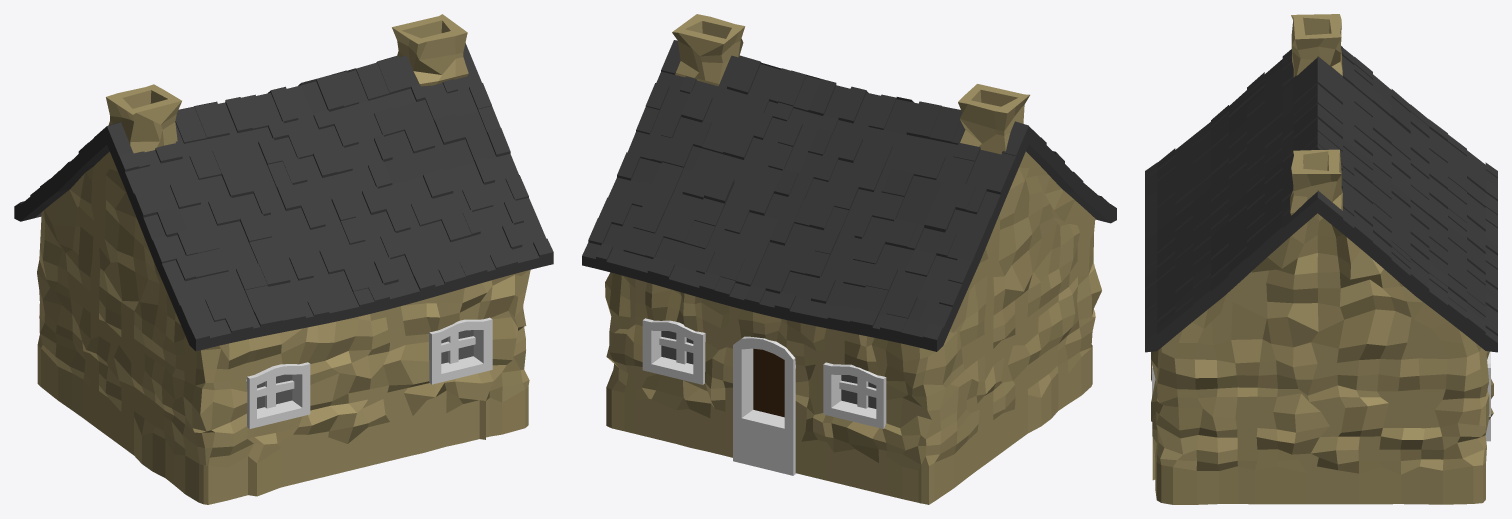
File: KeeperHouse.fbx
3 views of the same model, side by side, from view 1: azimuth 30°, elevation 25°; view 2: azimuth 150°, elevation 25°; view 3: azimuth 270°, elevation 25° (orthographic). The views are drawn at different scales.
Parts seen in each view (by area): view 1: KeeperHouse_Roof, KeeperHouse_Walls, KeeperHouse_Chimneys, KeeperHouse_Windows; view 2: KeeperHouse_Roof, KeeperHouse_Walls, KeeperHouse_Door, KeeperHouse_Chimneys, KeeperHouse_Windows; view 3: KeeperHouse_Walls, KeeperHouse_Roof, KeeperHouse_Chimneys.
Part boxes in pixels (bbox=[...]): KeeperHouse_Roof: bbox=[14, 43, 553, 351]; KeeperHouse_Walls: bbox=[37, 151, 530, 504]; KeeperHouse_Chimneys: bbox=[106, 14, 468, 153]; KeeperHouse_Windows: bbox=[246, 317, 492, 428]; KeeperHouse_Roof: bbox=[582, 40, 1116, 351]; KeeperHouse_Walls: bbox=[605, 151, 1101, 504]; KeeperHouse_Door: bbox=[733, 336, 795, 475]; KeeperHouse_Chimneys: bbox=[672, 14, 1029, 154]; KeeperHouse_Windows: bbox=[642, 318, 886, 428]; KeeperHouse_Walls: bbox=[1151, 70, 1493, 504]; KeeperHouse_Roof: bbox=[1145, 46, 1497, 352]; KeeperHouse_Chimneys: bbox=[1290, 14, 1342, 215].
Size of the model in its own units: 9.95 by 9.1 by 8.74.
